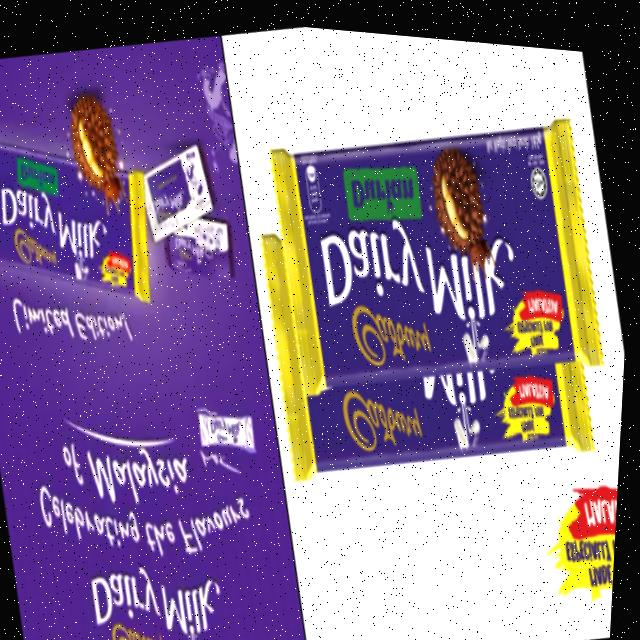cadbury: (268, 92, 615, 406), (64, 83, 133, 219)
